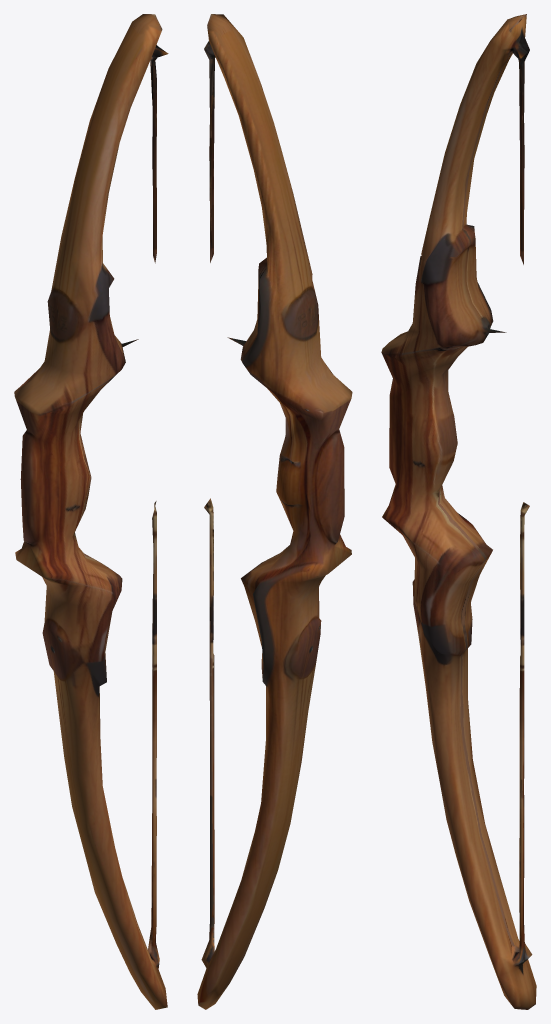
File: bow.obj
The picture shows the model from 3 angles, left to right: view 1: azimuth 30°, elevation 25°; view 2: azimuth 150°, elevation 25°; view 3: azimuth 330°, elevation 25°; orthographic projection.
Parts seen in each view (by area): view 1: model; view 2: model; view 3: model.
Part boxes in pixels (<box>): model: <box>14,14,168,1009</box>; model: <box>197,14,352,1009</box>; model: <box>381,14,536,1009</box>.
Size of the model in its own units: 0.2947 by 1.99 by 0.1612.
